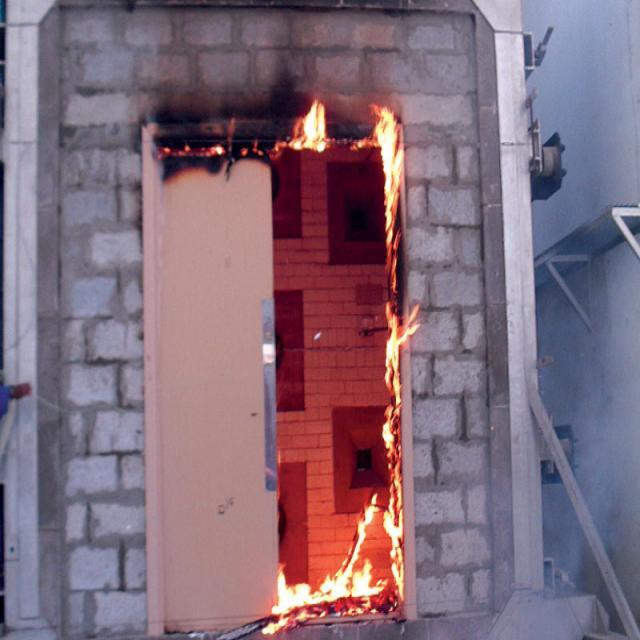Fire: (382, 108, 407, 598), (310, 491, 386, 616), (269, 98, 335, 158), (262, 569, 312, 636), (386, 304, 420, 402), (157, 119, 235, 160), (346, 103, 404, 152), (240, 139, 266, 158), (276, 446, 281, 524)
Smoke: (549, 382, 640, 576)
